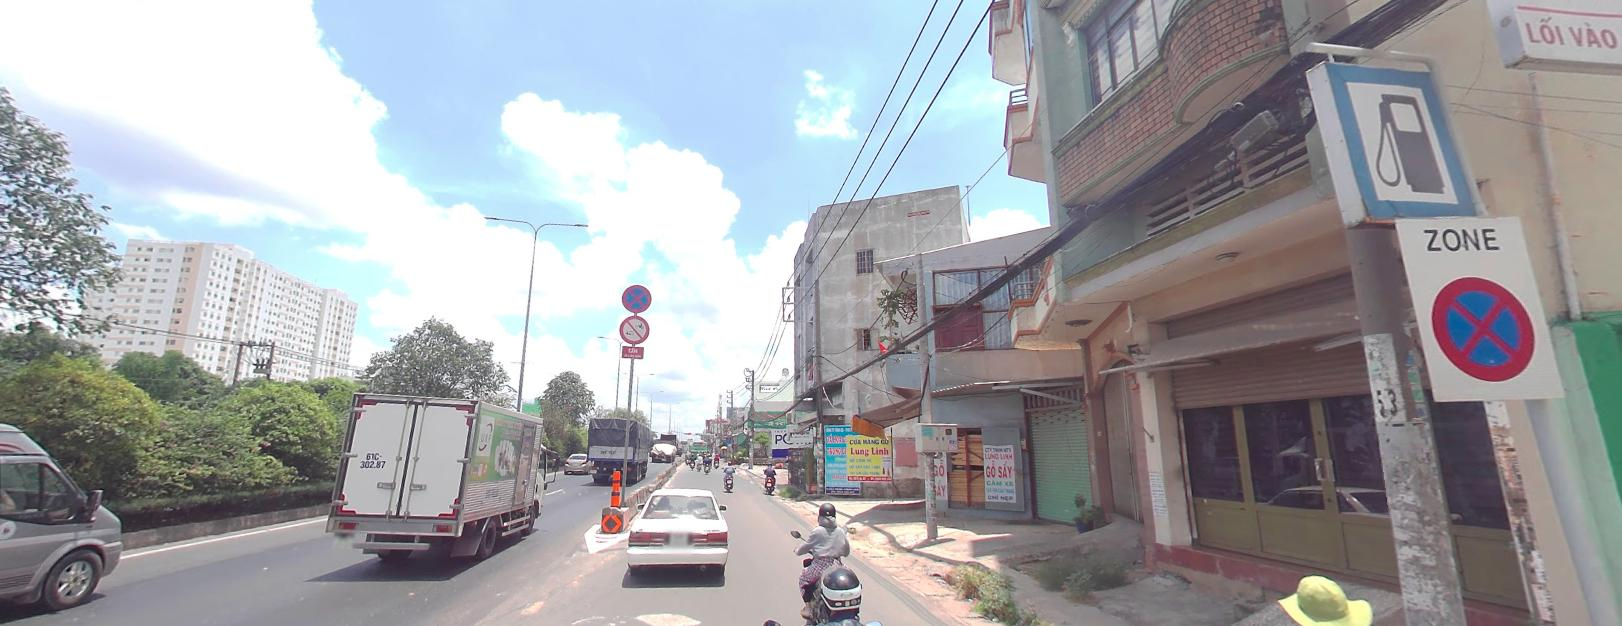Cam con lai: (618, 312, 649, 342)
Cam dung va do: (1426, 266, 1539, 384), (620, 281, 650, 312)
